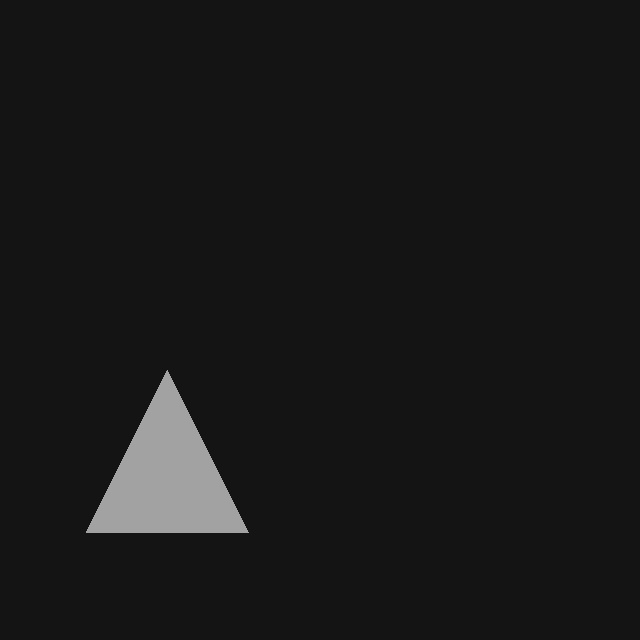triangle: (86, 370, 248, 532)
